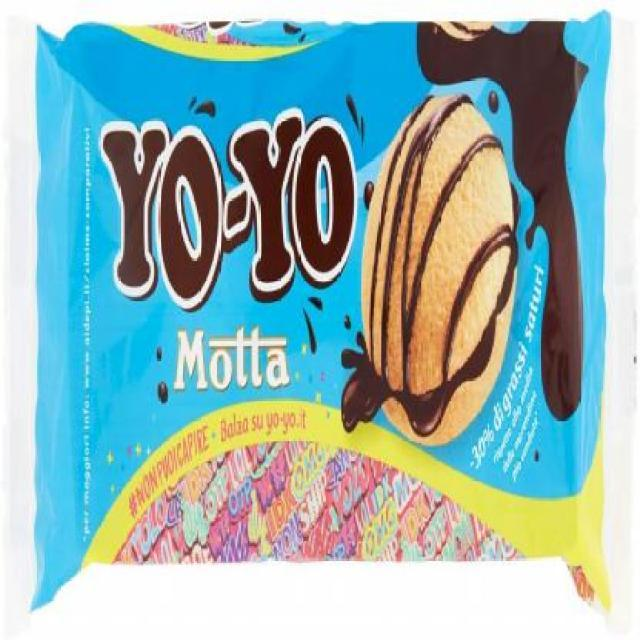Merendine: (46, 23, 605, 589)
Merendine packaged: (359, 94, 518, 443)
